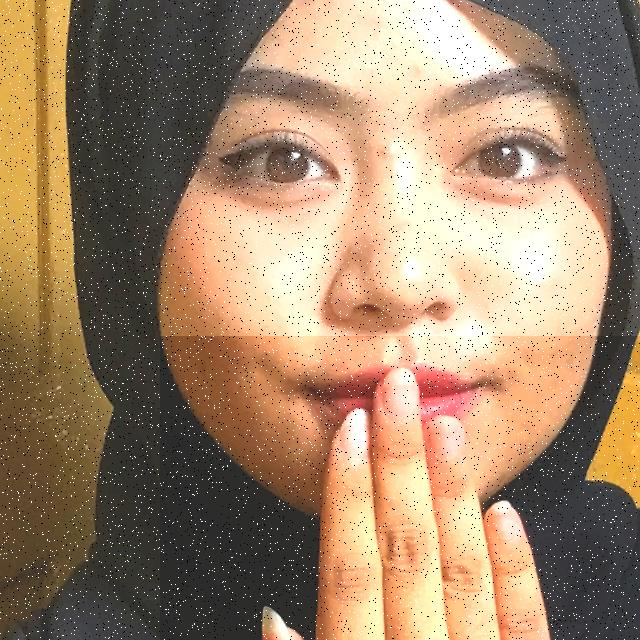ganteng: (160, 336, 640, 640)
